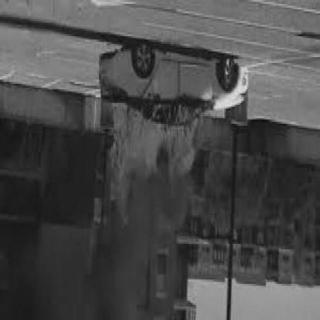Smoke: (10, 224, 156, 320)
